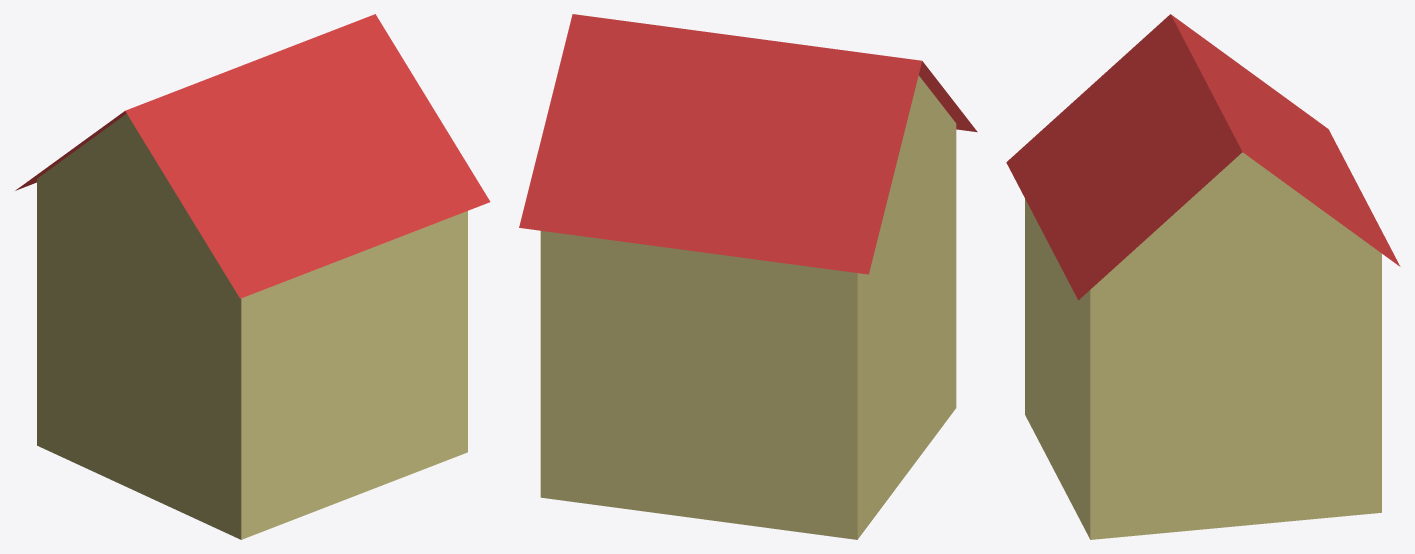
3 views of the same model, side by side, from view 1: azimuth 30°, elevation 25°; view 2: azimuth 150°, elevation 25°; view 3: azimuth 270°, elevation 25° (orthographic). The views are drawn at different scales.
Bounding box in the file's own units: 12.59 × 12.48 × 13.28.
